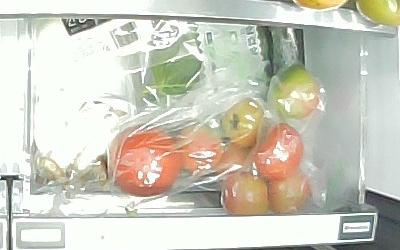tomato_vinyl: (108, 125, 180, 197), (253, 124, 305, 183), (271, 63, 320, 119), (219, 97, 266, 148), (176, 125, 222, 174), (222, 173, 270, 216), (268, 171, 311, 214)
